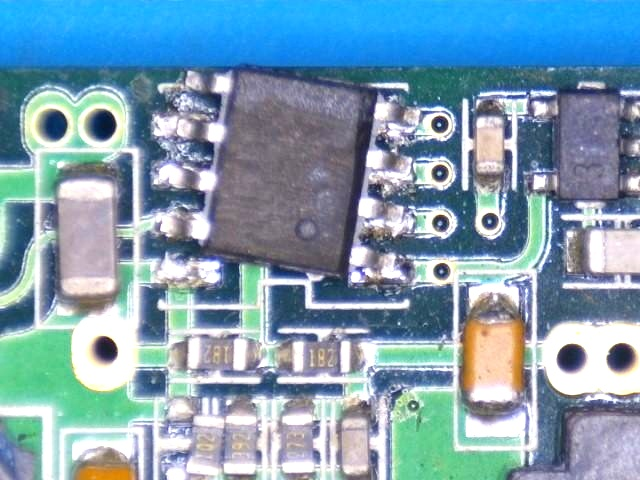pcb_defect: (151, 68, 420, 282), (159, 397, 224, 480)
